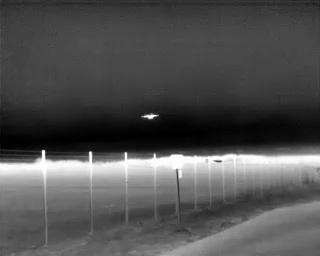AIRPLANE: (139, 111, 160, 122)
